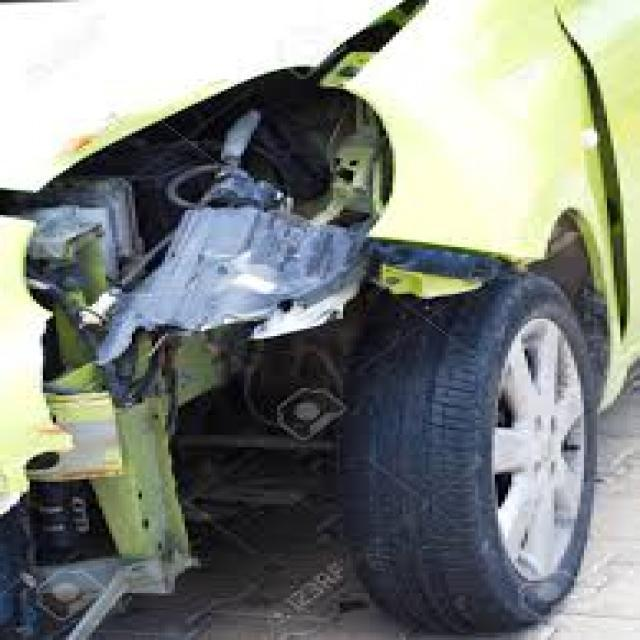damaged-head-light: (58, 78, 380, 282)
